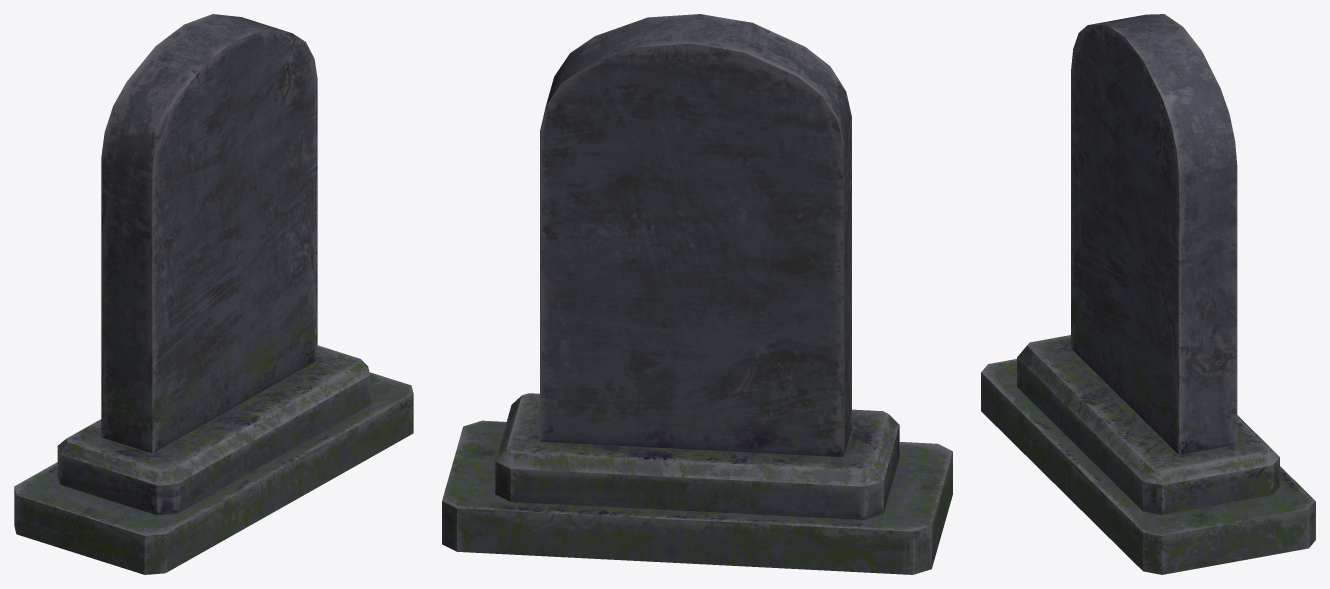
3 views of the same model, side by side, from view 1: azimuth 30°, elevation 25°; view 2: azimuth 150°, elevation 25°; view 3: azimuth 270°, elevation 25° (orthographic). The views are drawn at different scales.
Visible parts, largest first — view 1: grave _low.001; view 2: grave _low.001; view 3: grave _low.001.
Part boxes in pixels (x1,y1,x2,y2): grave _low.001: [14, 14, 413, 574]; grave _low.001: [442, 14, 952, 574]; grave _low.001: [981, 14, 1315, 574].
Bounding box in the file's own units: 220 × 228 × 157.
